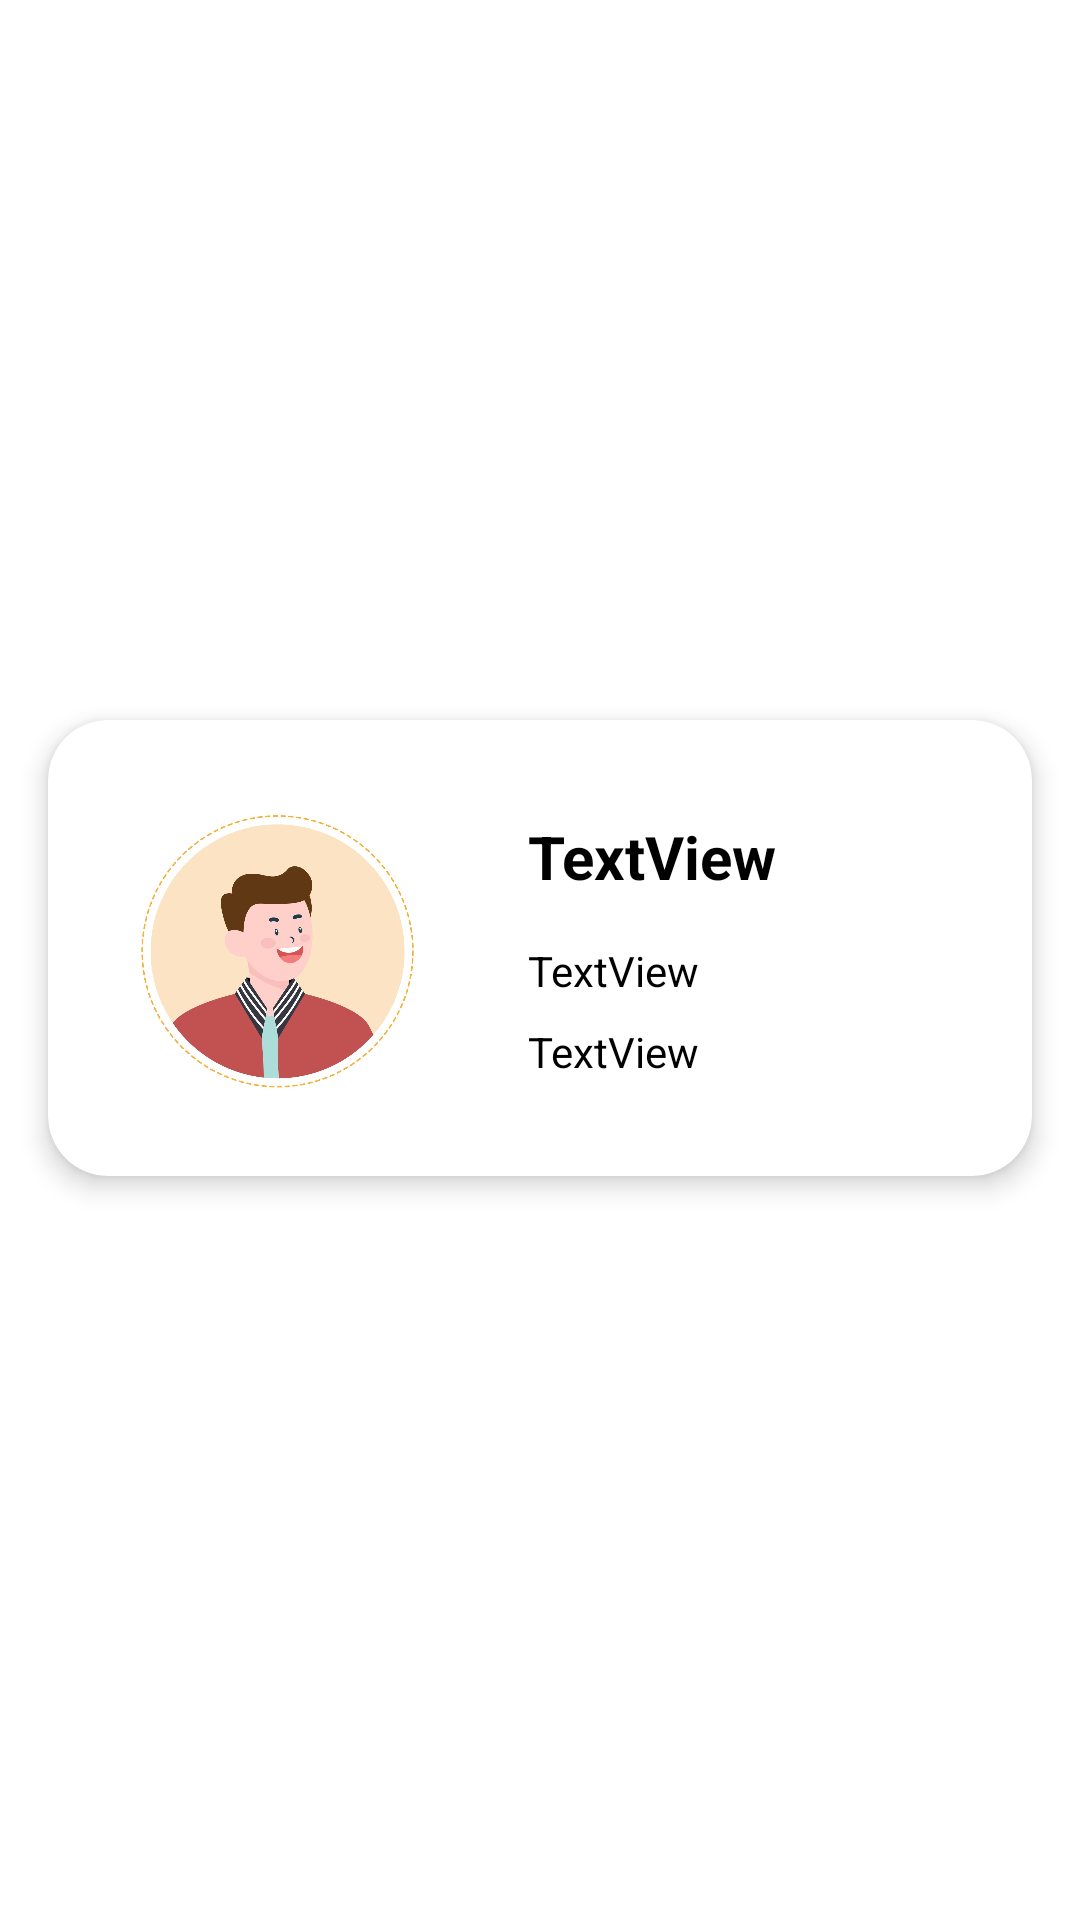

Icon click points for this 1080×1920 phone screenshot, format [x,y]:
character: [277,951]
